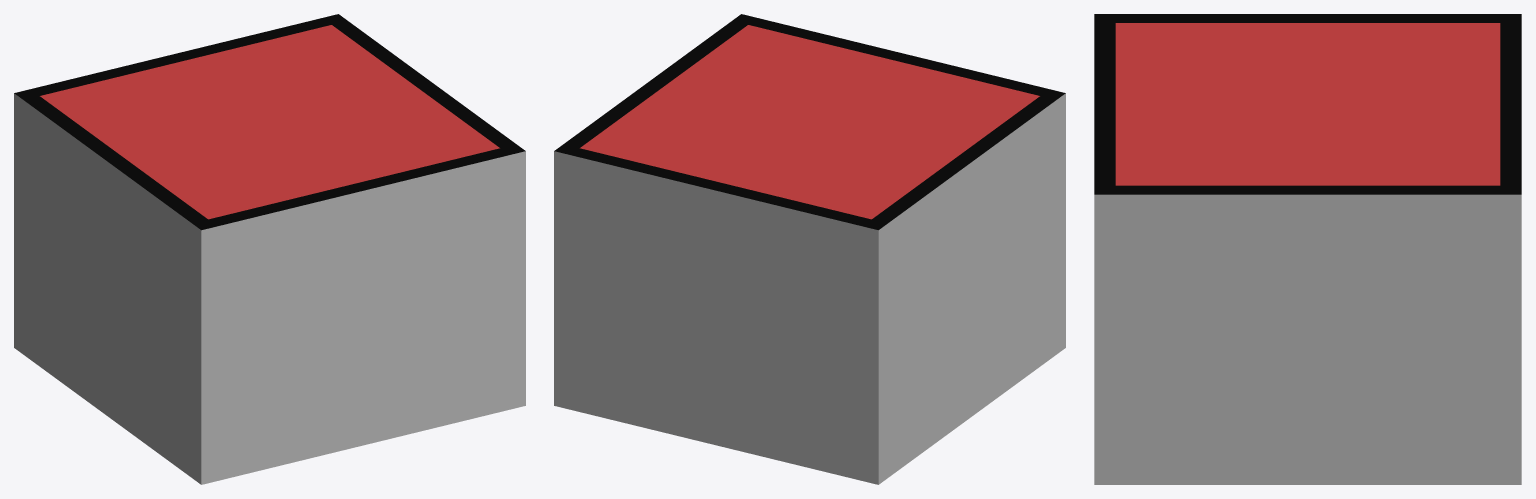
The model's file is CityCentre.fbx.
The picture shows the model from 3 angles, left to right: view 1: azimuth 30°, elevation 25°; view 2: azimuth 150°, elevation 25°; view 3: azimuth 270°, elevation 25°; orthographic projection. The views are drawn at different scales.
Visible parts, largest first — view 1: CityCentre; view 2: CityCentre; view 3: CityCentre.
Part boxes in pixels (x1,y1,x2,y2): CityCentre: (14, 14, 525, 484); CityCentre: (554, 14, 1065, 484); CityCentre: (1094, 14, 1521, 484).
Bounding box in the file's own units: 400 × 300 × 400.
